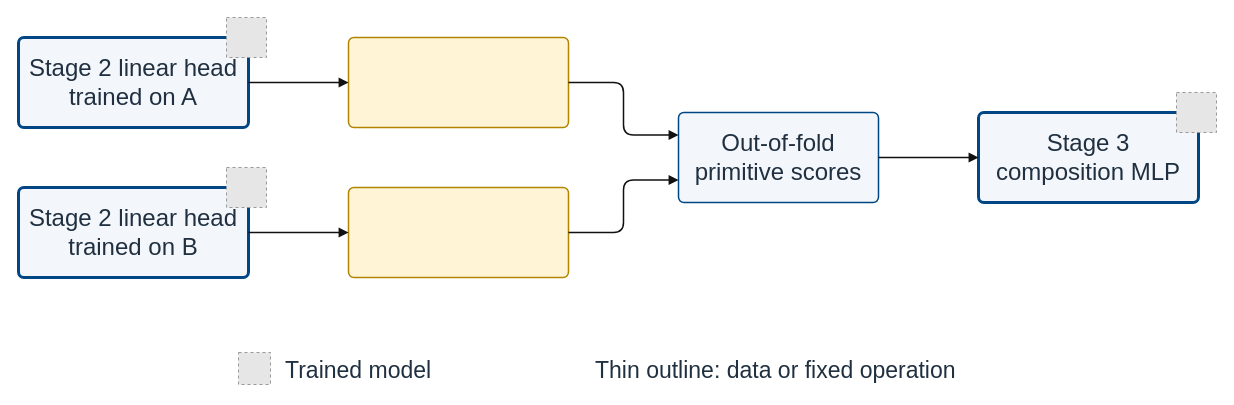
Some shapes in this 1234 by 405 pixel diagram are drawn without their labels. Grey dashed boxes stand in for pictures. The centre of each missing label's shape, as x and y in pixels:
"Predict on videos A" belongs at (458,232).
"Predict on videos B" belongs at (458,82).
